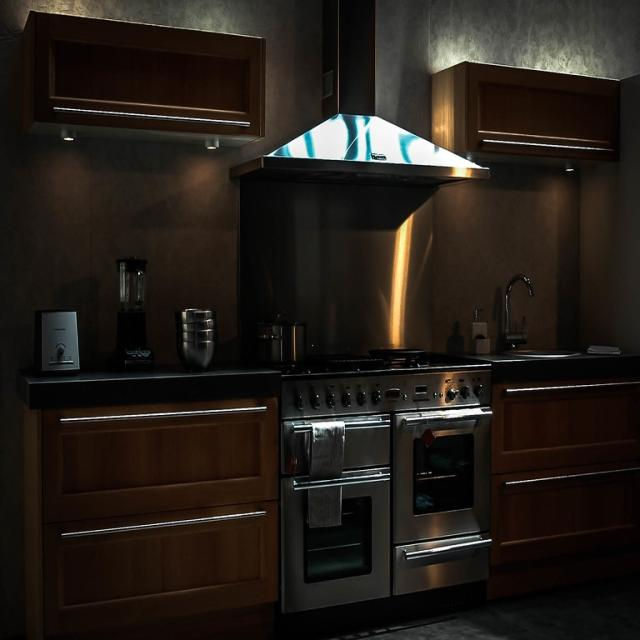E-waste: (276, 366, 494, 625), (19, 252, 160, 378)
Metal: (493, 229, 552, 351), (170, 290, 232, 372), (260, 300, 326, 370)
